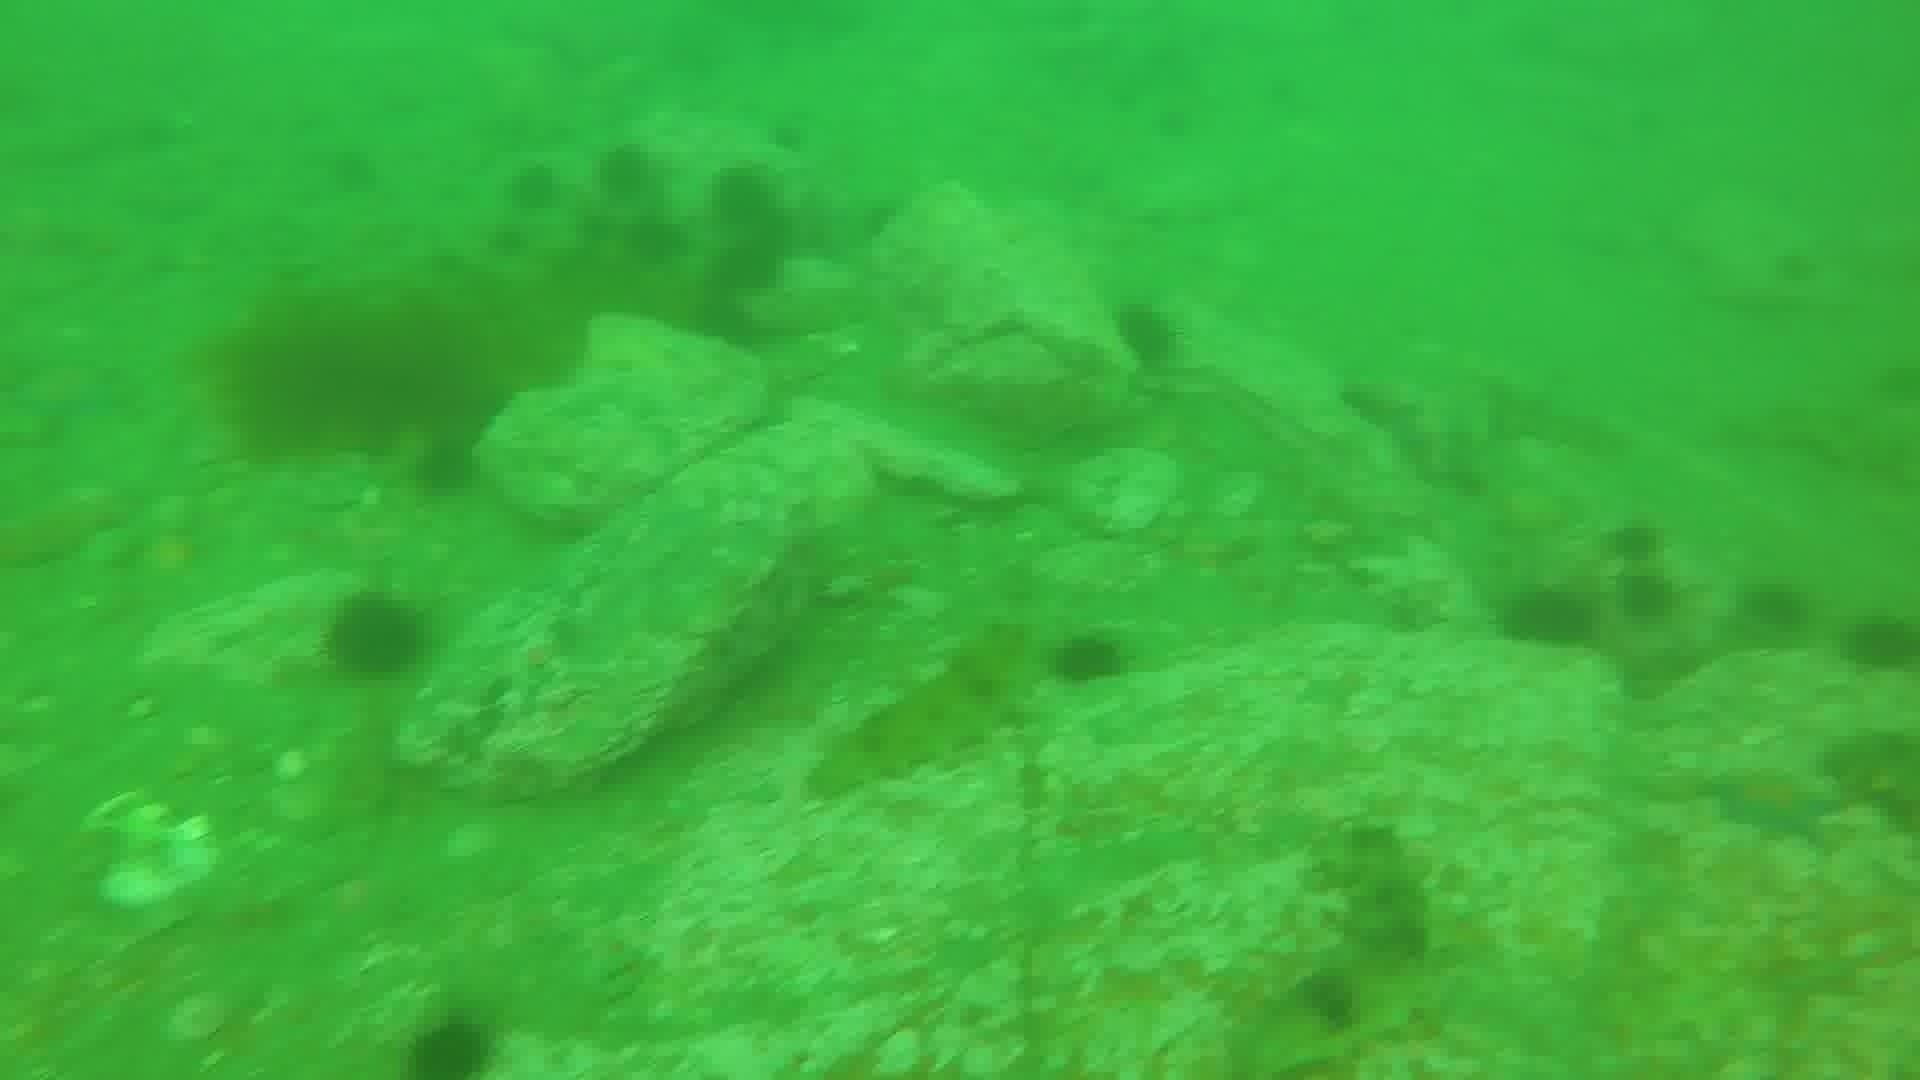echinus: (222, 316, 389, 465), (1817, 723, 1919, 835), (320, 591, 429, 684), (1498, 582, 1600, 655), (401, 1011, 500, 1077), (1108, 298, 1185, 375), (1734, 576, 1813, 650), (1838, 608, 1919, 679), (705, 162, 783, 235), (1047, 628, 1131, 692), (708, 233, 789, 301), (407, 431, 481, 502), (591, 140, 662, 207), (618, 211, 688, 274), (1613, 567, 1683, 629), (1601, 516, 1669, 568), (502, 160, 564, 218), (764, 112, 812, 157)
holothurian: (803, 621, 1044, 804), (1291, 818, 1437, 1067)
starfish: (1706, 762, 1841, 847), (5, 351, 127, 443)
